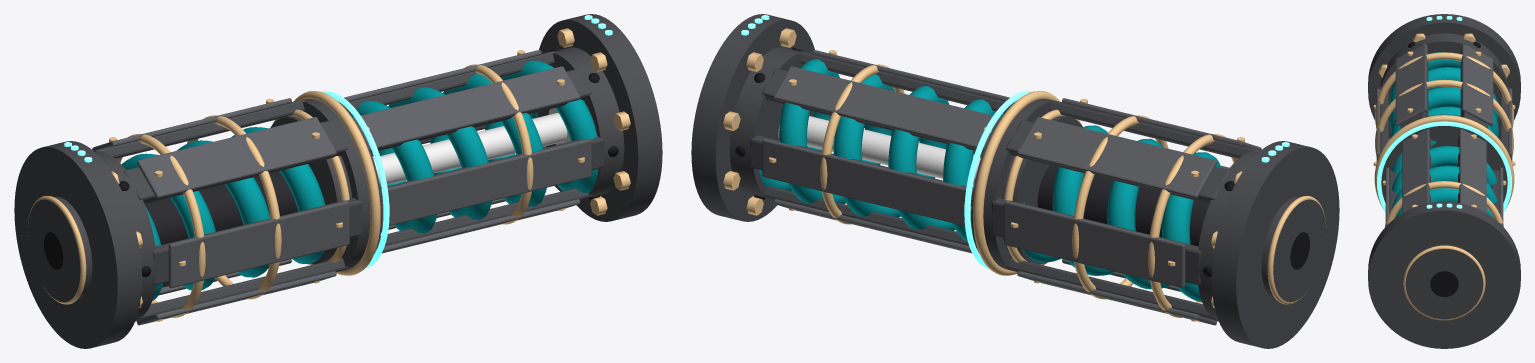
Rendered from offroad_suspension_4.glb.
The picture shows the model from 3 angles, left to right: view 1: azimuth 30°, elevation 25°; view 2: azimuth 150°, elevation 25°; view 3: azimuth 270°, elevation 25°; orthographic projection. The views are drawn at different scales.
Visible parts, largest first — view 1: mountFlex, Stator, mount; view 2: mountFlex, Stator, mount; view 3: mountFlex, mount, Stator.
Part boxes in pixels (<box>): mountFlex: <box>92,47,624,325</box>; Stator: <box>14,141,142,348</box>; mount: <box>539,14,662,221</box>; mountFlex: <box>729,47,1261,325</box>; Stator: <box>1211,141,1339,348</box>; mount: <box>691,14,814,221</box>; mountFlex: <box>1373,33,1515,226</box>; mount: <box>1368,201,1520,348</box>; Stator: <box>1368,14,1520,139</box>.
Bounding box in the file's own units: 0.751 × 0.2382 × 0.236.
